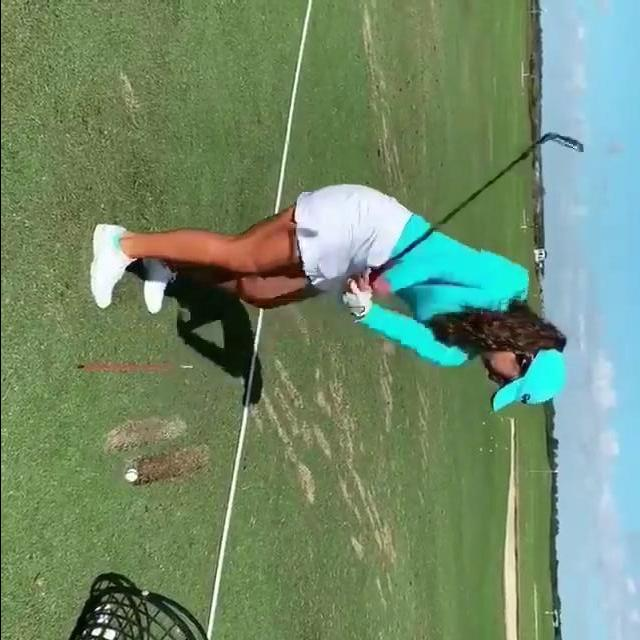golf ball: (120, 468, 139, 485), (105, 625, 116, 640), (95, 613, 107, 626), (100, 599, 112, 610), (90, 625, 102, 635)
golf club-handle: (362, 125, 584, 288)
golf club-head: (541, 134, 581, 153)
